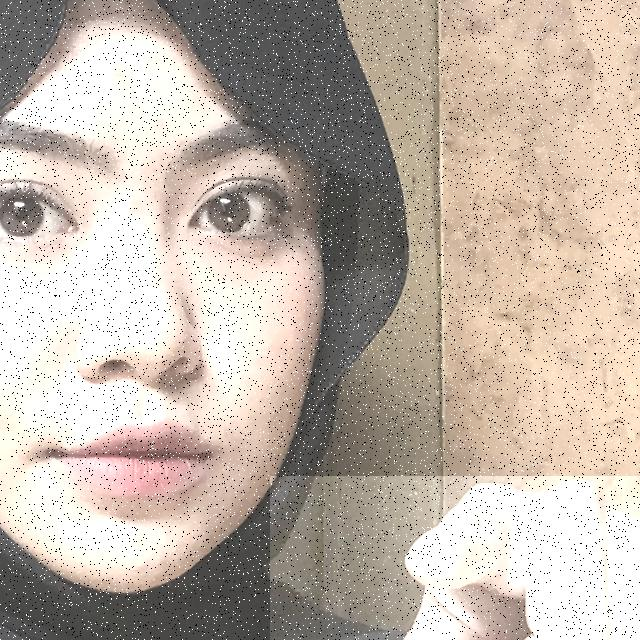kamu: (270, 476, 640, 640)
